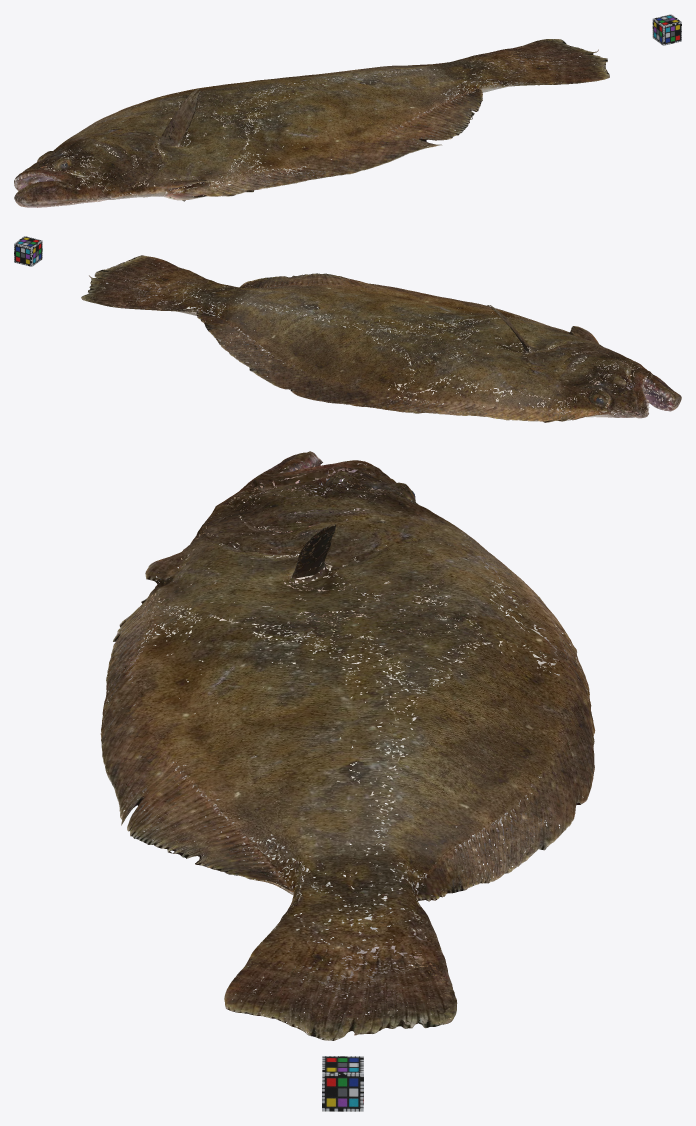
Rendered from scan_halibut.glb.
3 views of the same model, one above another, from view 1: azimuth 30°, elevation 25°; view 2: azimuth 150°, elevation 25°; view 3: azimuth 270°, elevation 25° (orthographic). The views are drawn at different scales.
Parts seen in each view (by area): view 1: Object_6, Object_13, Object_4; view 2: Object_6, Object_13, Object_4; view 3: Object_6, Object_13, Object_4.
Part boxes in pixels (x1=…): Object_6: x1=14, y1=39, x2=609, y2=207; Object_13: x1=14, y1=39, x2=609, y2=207; Object_4: x1=652, y1=14, x2=681, y2=45; Object_6: x1=82, y1=255, x2=681, y2=421; Object_13: x1=81, y1=255, x2=681, y2=422; Object_4: x1=14, y1=236, x2=42, y2=266; Object_6: x1=101, y1=451, x2=594, y2=1040; Object_13: x1=100, y1=451, x2=594, y2=1040; Object_4: x1=322, y1=1056, x2=363, y2=1111.
Bounding box in the file's own units: 16.54 × 2.56 × 5.44.
3 materials, 3 textured.
